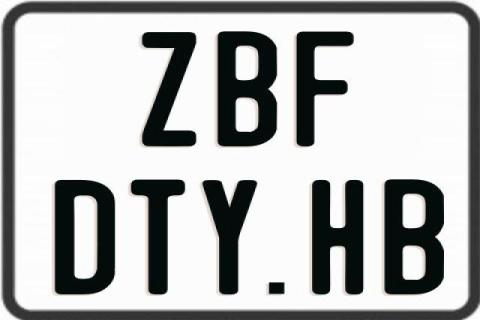B: (215, 31, 276, 148), (384, 178, 443, 298)
D: (54, 180, 116, 294)
F: (296, 29, 354, 145)
H: (312, 178, 369, 298)
T: (129, 177, 189, 293)
Y: (202, 180, 261, 294)
Z: (140, 31, 199, 148)
